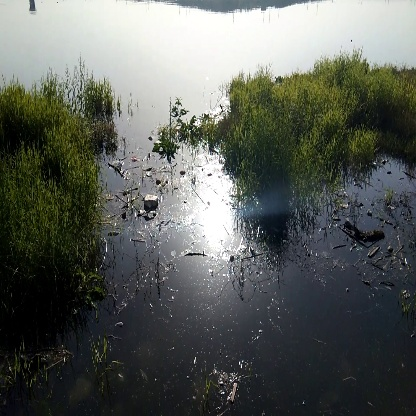plastic-garbage: (142, 187, 168, 217)
